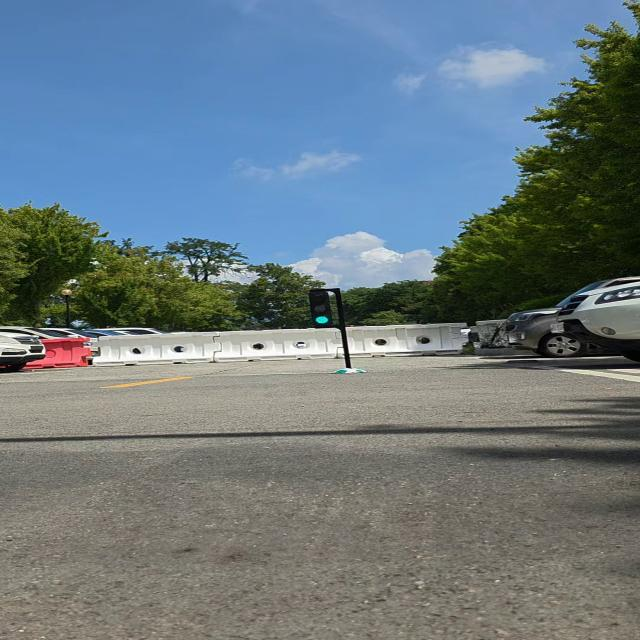green: (305, 288, 341, 328)
